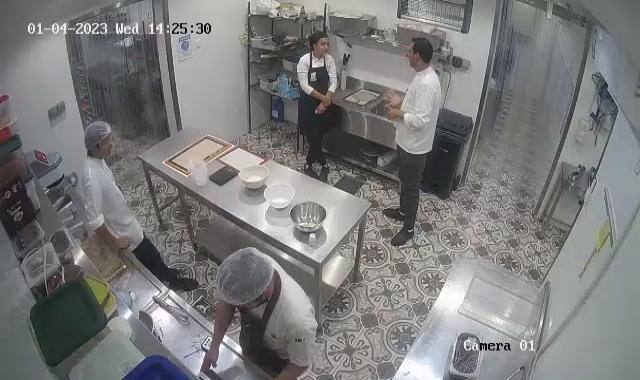hairnet: (218, 243, 275, 306), (84, 119, 112, 155)
no_hairnet: (410, 34, 432, 66), (308, 27, 332, 48)
